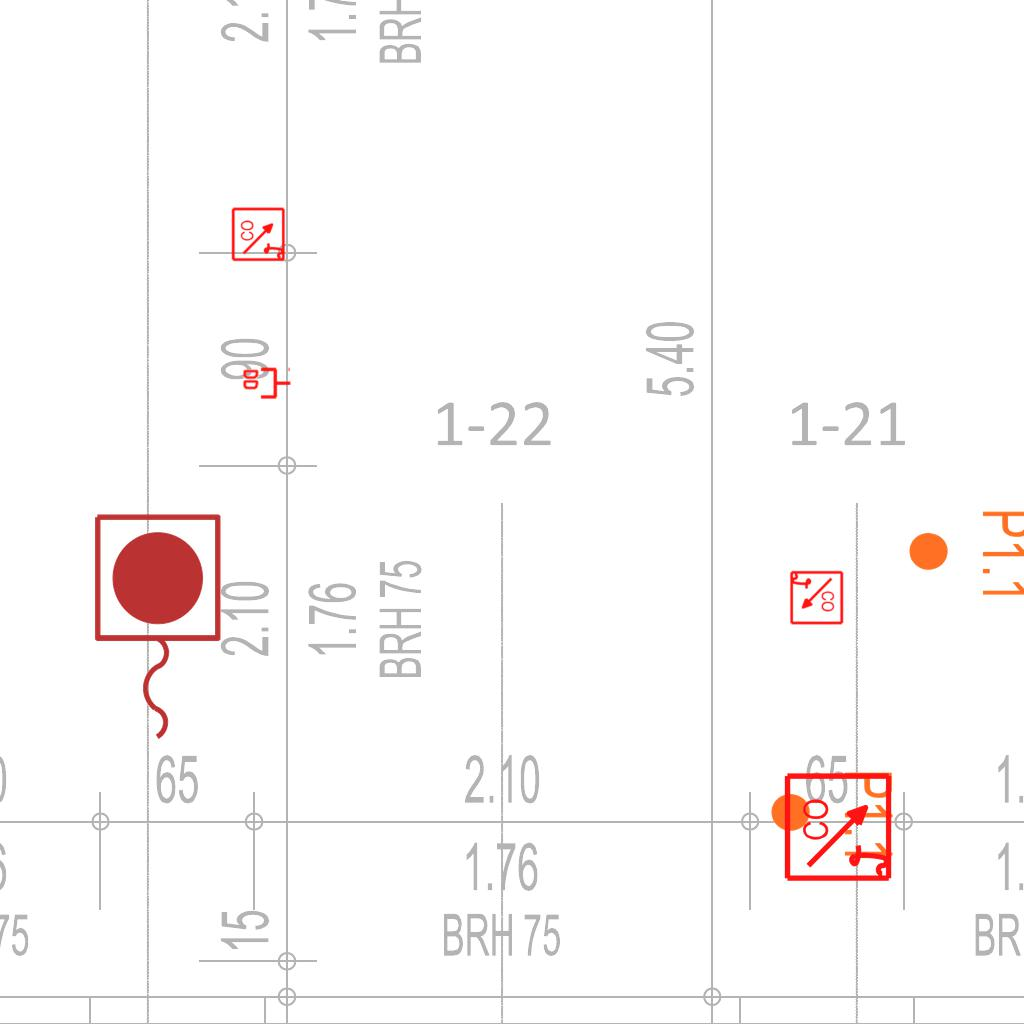Datenanschluss_zweifach: (241, 367, 292, 401)
Downlight_LED_Einbauleuchten_Flur: (768, 769, 896, 862), (906, 508, 1024, 601)
ROA_Rauchmelder_optisch_mit_Signalgeber_(Sockelsirene): (783, 770, 896, 883), (231, 206, 287, 262), (788, 570, 844, 626)
Zugtaster: (84, 506, 228, 750)
